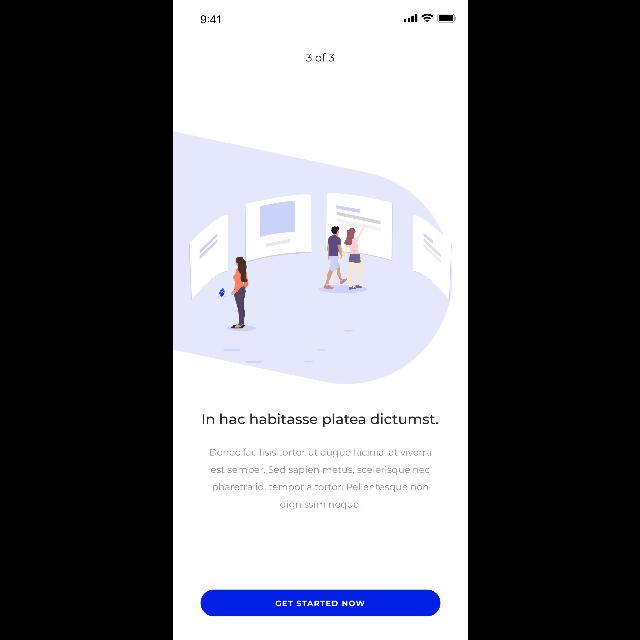image: (184, 190, 453, 366)
text: (210, 448, 430, 510), (202, 414, 438, 426), (305, 54, 333, 62)
textbutton: (200, 590, 440, 616)
uppertaskbar: (200, 14, 456, 24)
